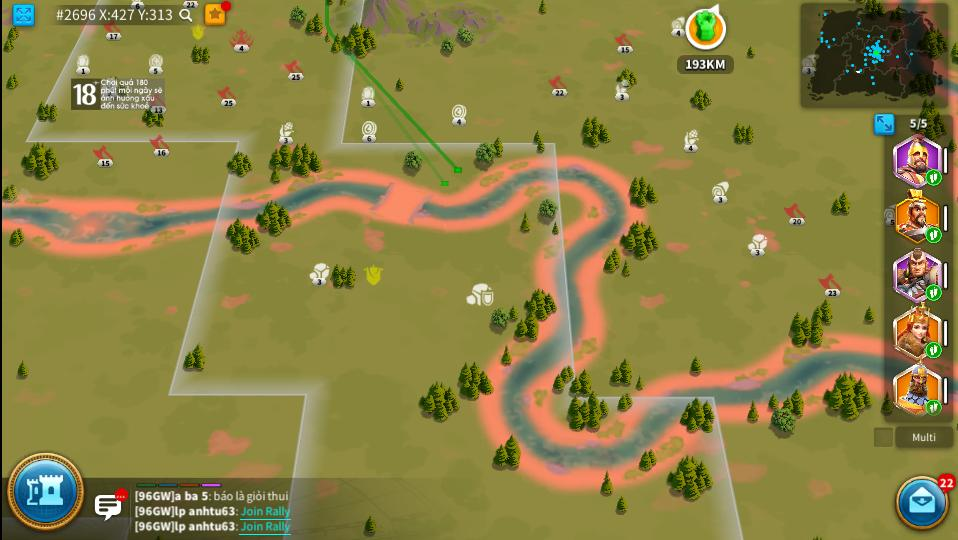gem-z-out: (361, 85, 377, 107), (75, 54, 92, 74)
march_marching: (925, 228, 942, 242), (926, 170, 940, 185), (927, 400, 941, 415), (926, 285, 940, 299), (928, 343, 940, 357)
